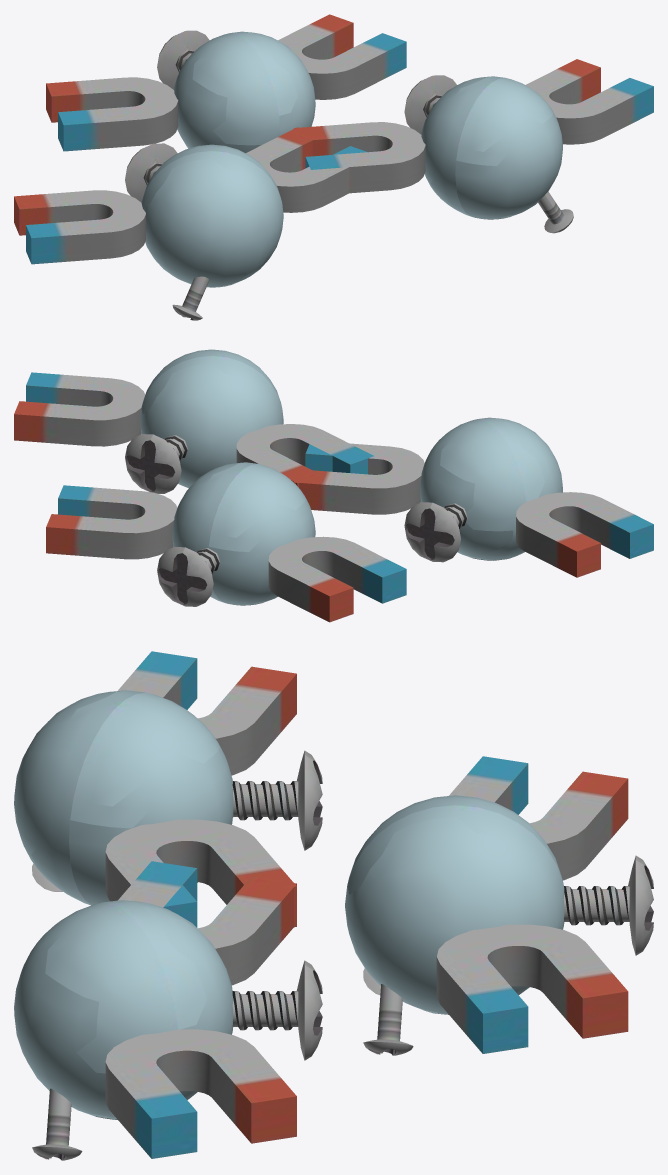
3 renders of one model, top to bottom at view 1: azimuth 30°, elevation 25°; view 2: azimuth 150°, elevation 25°; view 3: azimuth 270°, elevation 25°, orthographic. The views are drawn at different scales.
Size of the model in its own units: 4.58 by 1 by 2.65.
Materials: 2 (2 with a texture image).
